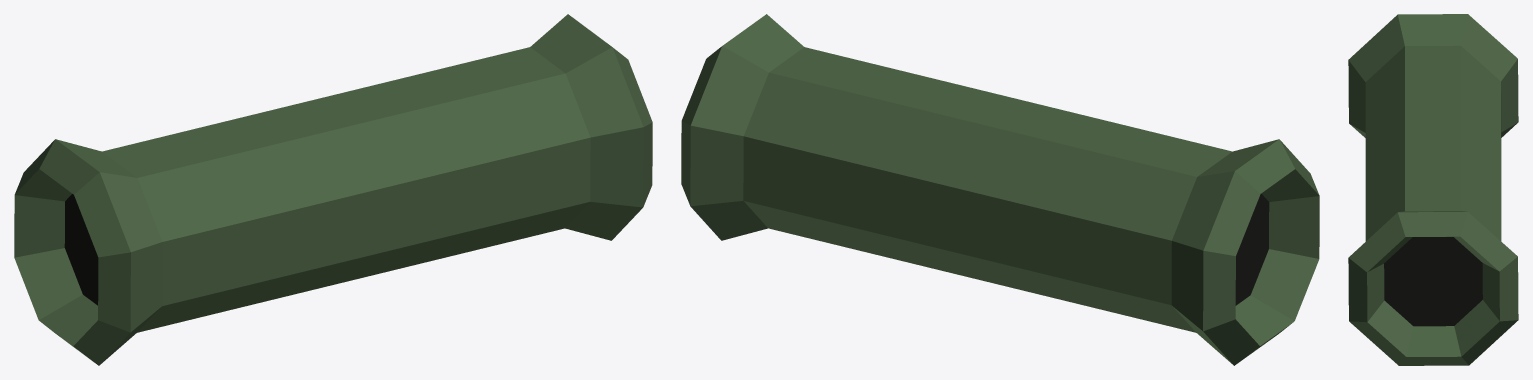
Rendered from Bazooka_fbx.FBX.
3 views of the same model, side by side, from view 1: azimuth 30°, elevation 25°; view 2: azimuth 150°, elevation 25°; view 3: azimuth 270°, elevation 25° (orthographic). The views are drawn at different scales.
Parts seen in each view (by area): view 1: Bazooka; view 2: Bazooka; view 3: Bazooka.
Boxes of the visible parts, left/top/right/bottom form: Bazooka: left=14, top=14, right=652, bottom=365; Bazooka: left=681, top=14, right=1319, bottom=365; Bazooka: left=1348, top=14, right=1518, bottom=365.
Size of the model in its own units: 60.51 by 20.33 by 20.33.
